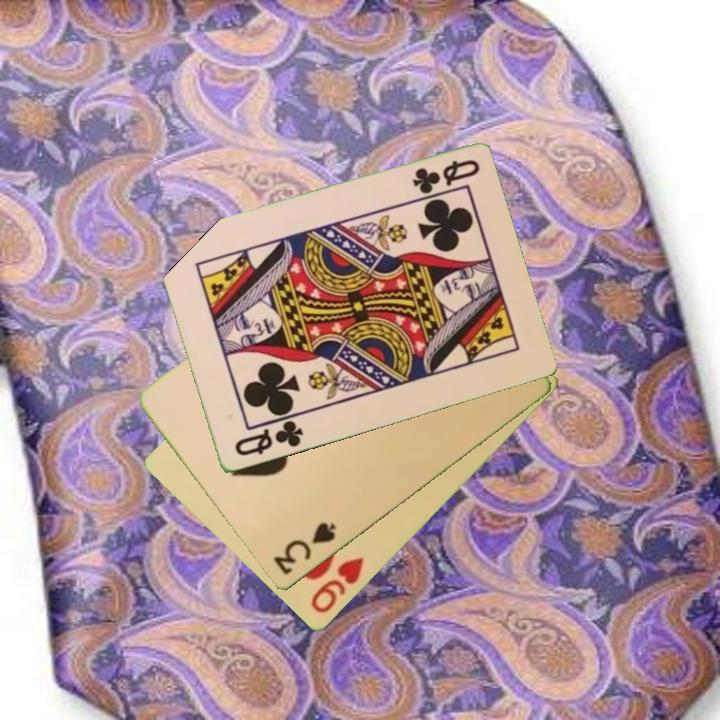3s: (269, 519, 339, 579)
9h: (307, 553, 368, 617)
Qc: (230, 417, 306, 460), (408, 156, 483, 197)
